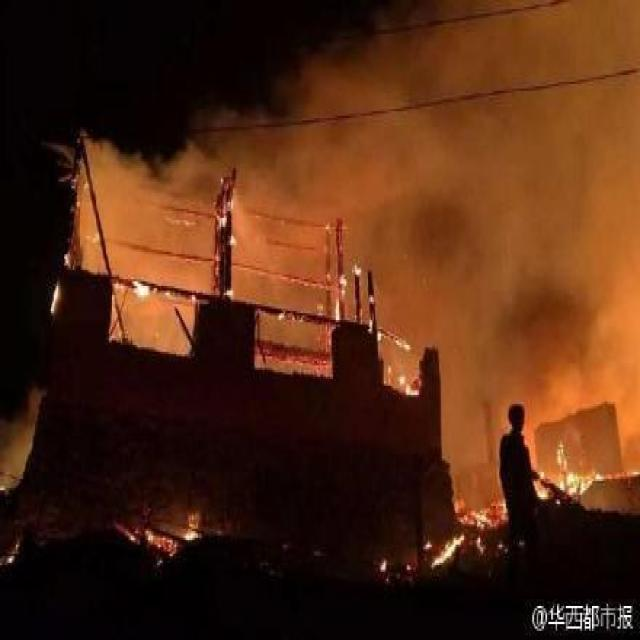smoke: (373, 189, 590, 386)
